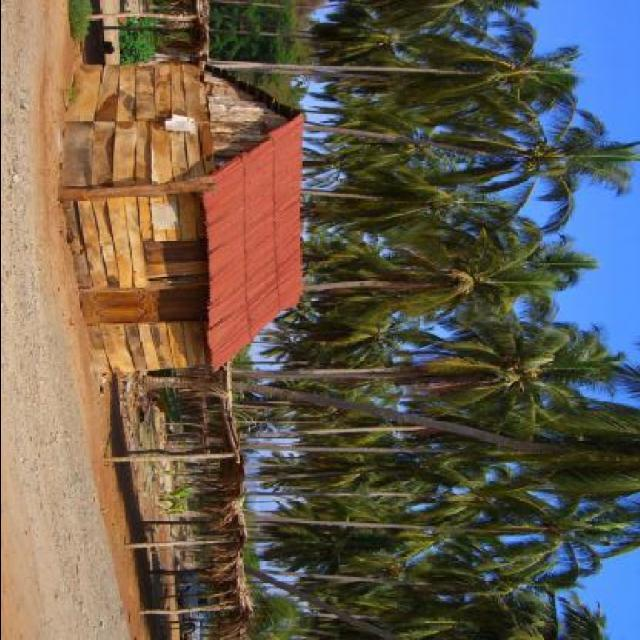Coconut: (518, 158, 540, 174), (529, 144, 545, 158)
